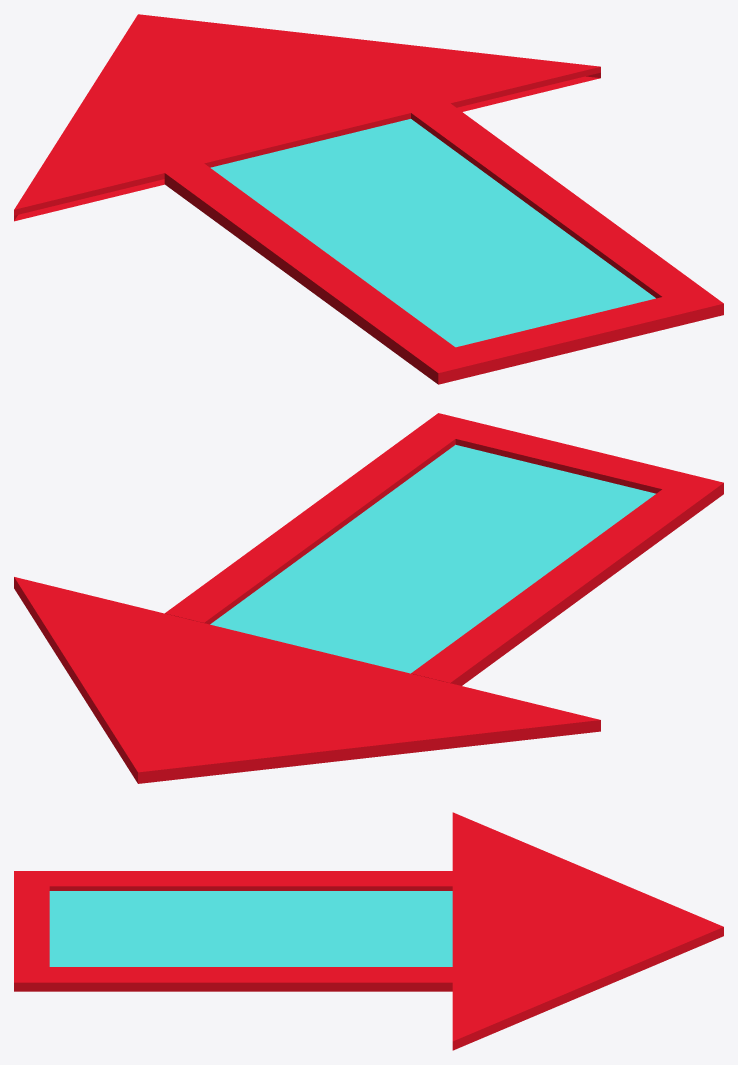
Rendered from Arrow.fbx.
The picture shows the model from 3 angles, top to bottom: view 1: azimuth 30°, elevation 25°; view 2: azimuth 150°, elevation 25°; view 3: azimuth 270°, elevation 25°; orthographic projection. The views are drawn at different scales.
Visible parts, largest first — view 1: Arrow; view 2: Arrow; view 3: Arrow.
Boxes of the visible parts, x1,y1,x2,y2 form: Arrow: (14,14,723,384); Arrow: (14,413,723,783); Arrow: (14,812,723,1050).
Size of the model in its own units: 283 by 5.42 by 370.
